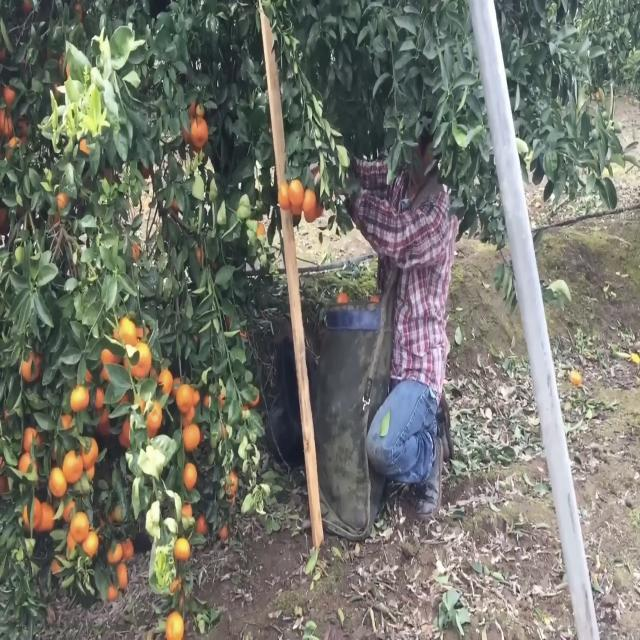Jeruk Sudah Matang: (160, 604, 190, 640), (61, 446, 85, 488), (70, 508, 92, 548), (130, 342, 152, 382), (176, 376, 196, 416), (188, 110, 208, 149), (68, 384, 90, 416), (302, 186, 321, 223), (173, 532, 193, 567), (182, 420, 202, 454), (181, 458, 199, 495), (287, 174, 306, 208), (48, 464, 66, 499), (155, 366, 175, 397), (278, 179, 292, 207)
